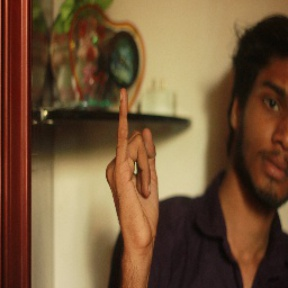I: (102, 87, 171, 247)
